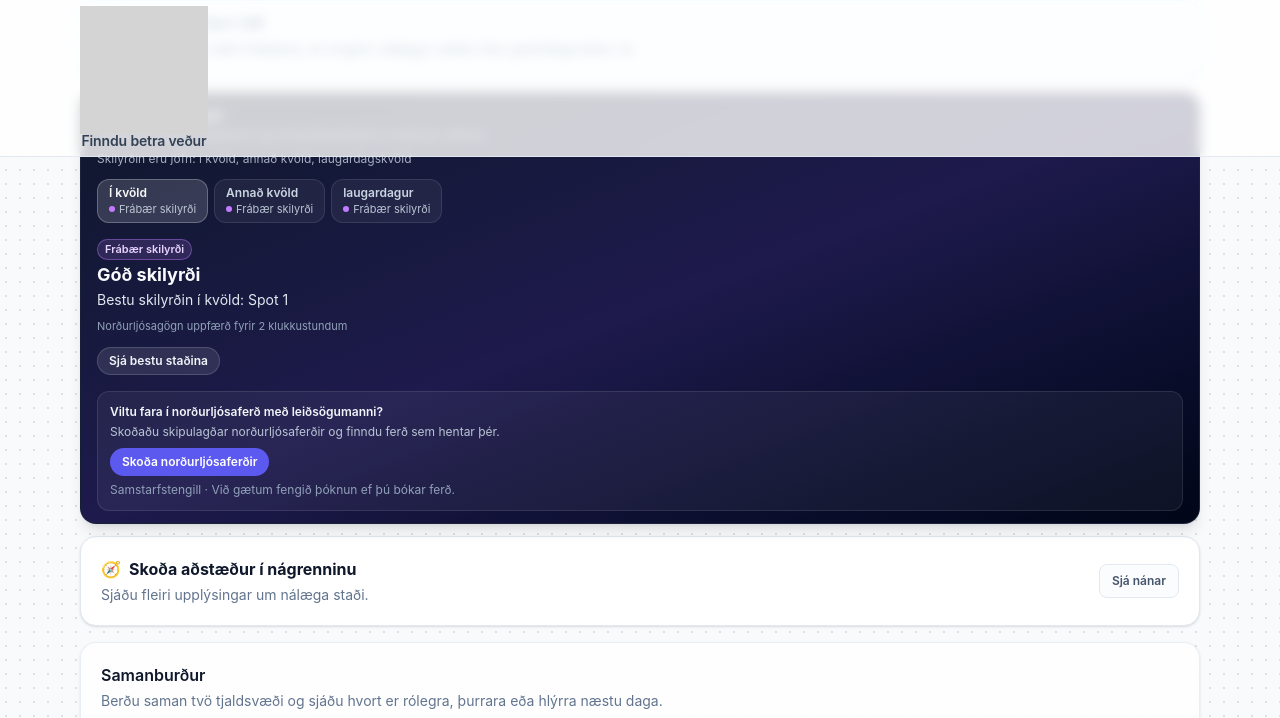
Scenario: App — Ticket #431: Northern Lights needs no checkout/login any more, logged-in Free › clicking the real details toggle opens details directly — no navigation, no dialog, no purchase-click event
The image size is (1280, 718).
(page scrolled)
Check: the element with test id "nl3-result" is shown, box [97, 239, 347, 374]
Click the button "Sjá bestu staðina" at (158, 360), box [97, 346, 220, 374]
(page scrolled)
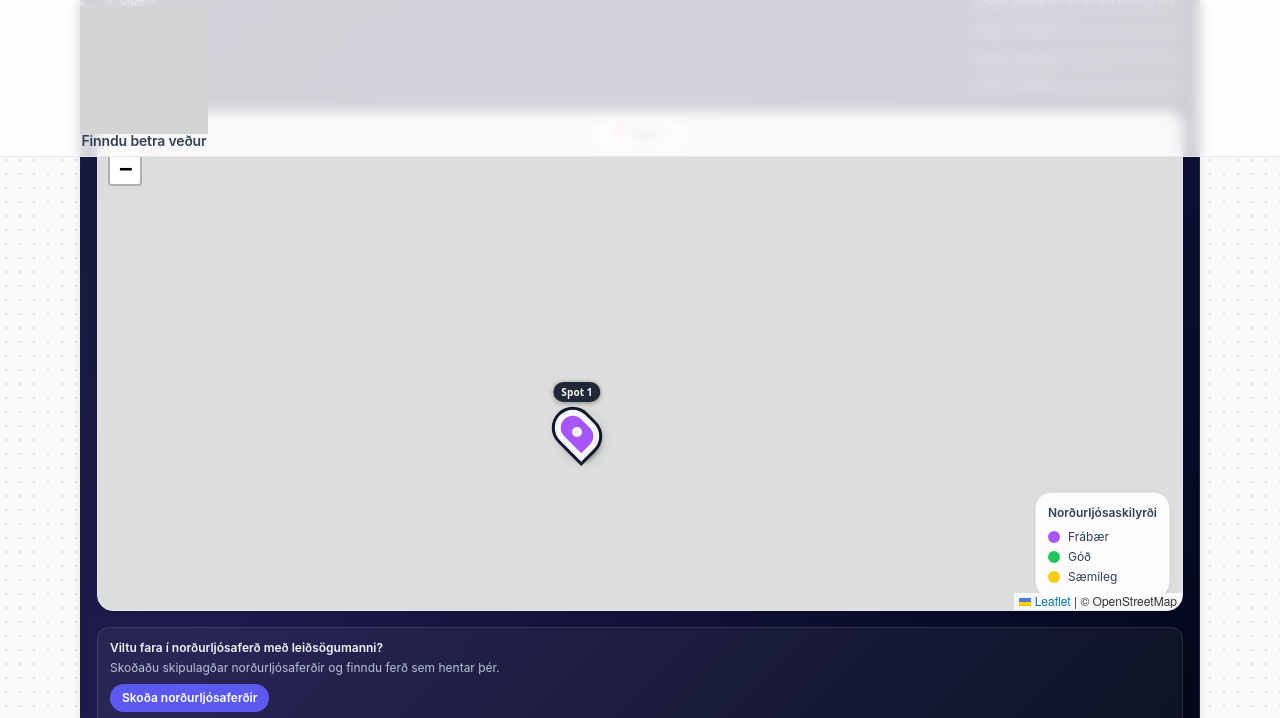
Check: the element with test id "nl-map-container" is shown, box [97, 110, 1183, 610]
